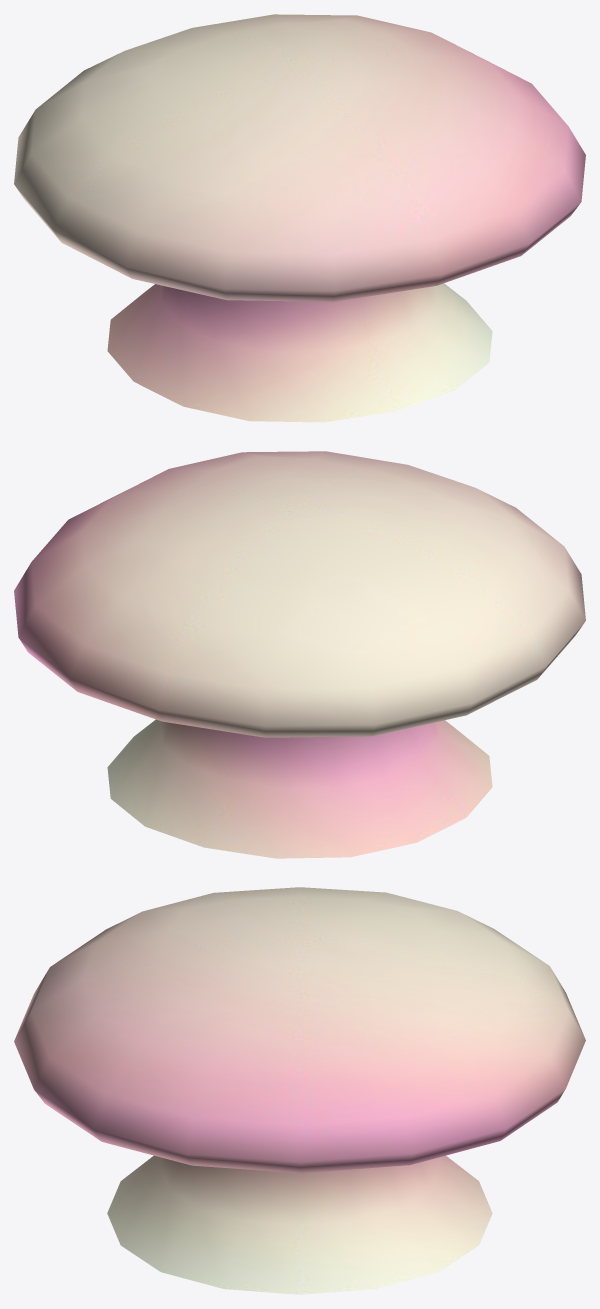
File: Mushroom_Jump.fbx
3 renders of one model, top to bottom at view 1: azimuth 30°, elevation 25°; view 2: azimuth 150°, elevation 25°; view 3: azimuth 270°, elevation 25°, orthographic.
Parts seen in each view (by area): view 1: Mushroom_Jump; view 2: Mushroom_Jump; view 3: Mushroom_Jump.
Boxes of the visible parts, x1,y1,x2,y2 form: Mushroom_Jump: (14, 14, 585, 422); Mushroom_Jump: (14, 451, 585, 858); Mushroom_Jump: (14, 887, 585, 1294).
Size of the model in its own units: 427 by 226 by 427.
